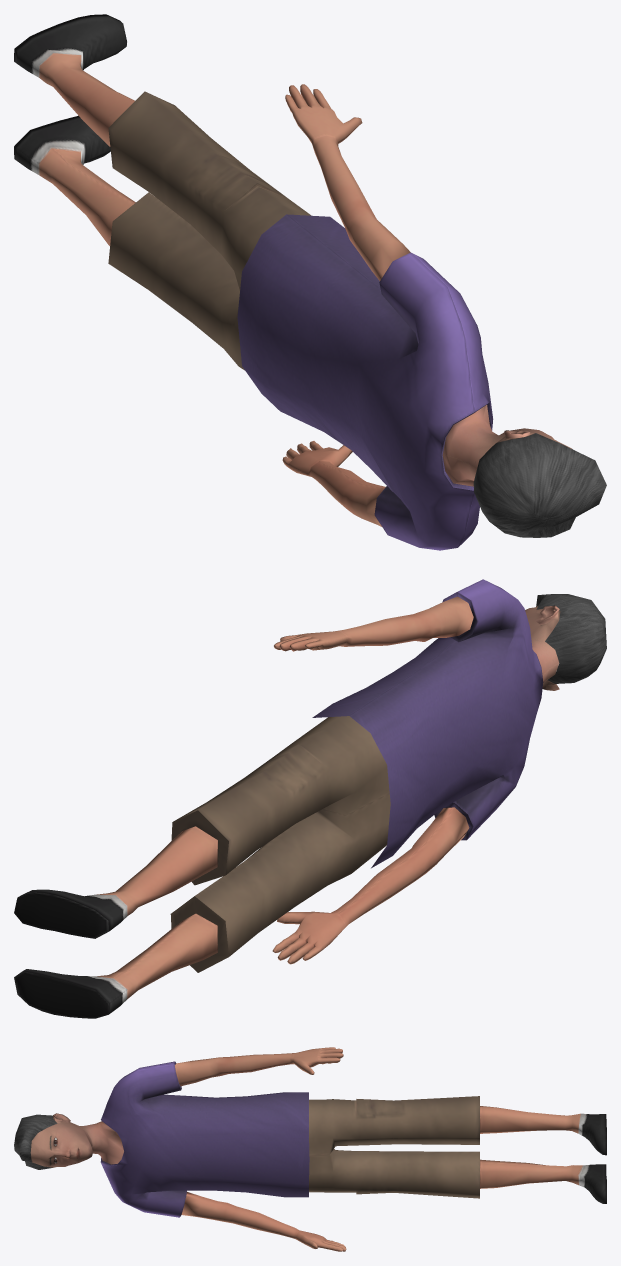
The model's file is man_standing.glb.
The picture shows the model from 3 angles, top to bottom: view 1: azimuth 30°, elevation 25°; view 2: azimuth 150°, elevation 25°; view 3: azimuth 270°, elevation 25°; orthographic projection. The views are drawn at different scales.
Visible parts, largest first — view 1: world; view 2: world; view 3: world.
Boxes of the visible parts, <box> form: world: <box>14,14,606,550</box>; world: <box>14,579,606,1018</box>; world: <box>14,1047,606,1251</box>.
Size of the model in its own units: 0.3071 by 0.6609 by 1.77.
Materials: 1 (1 with a texture image).
